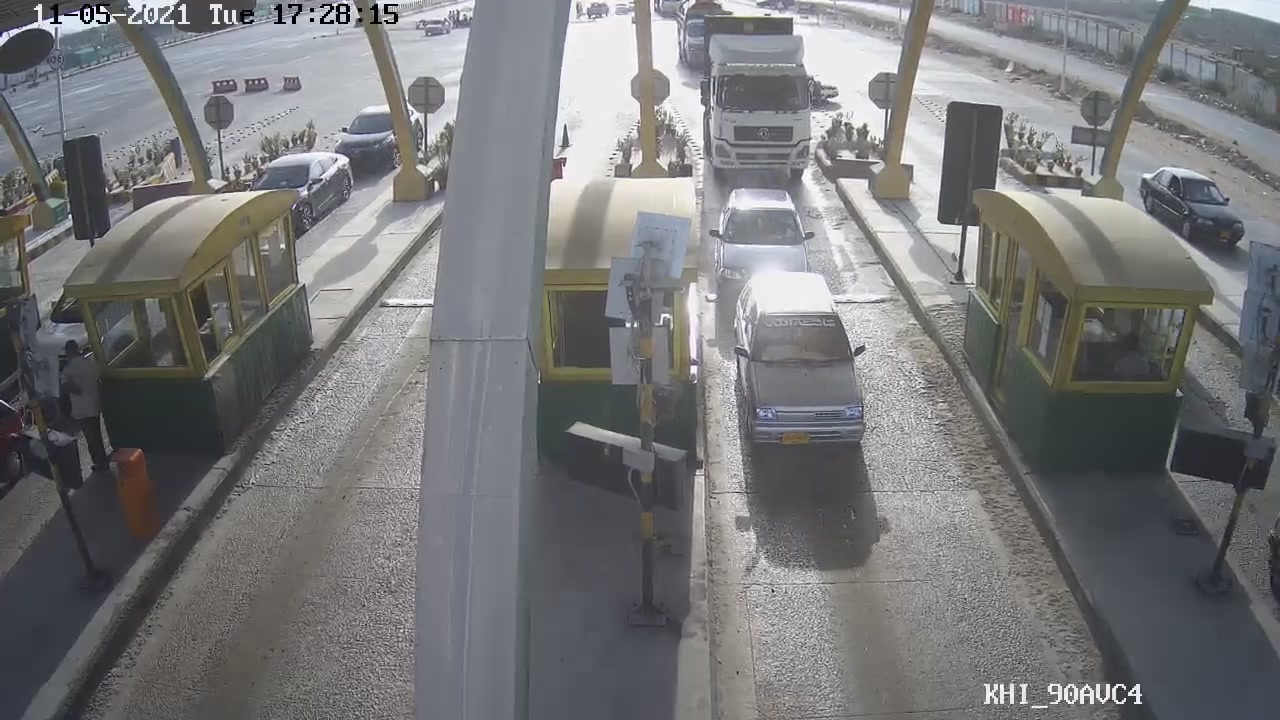F1: (725, 270, 878, 451)
